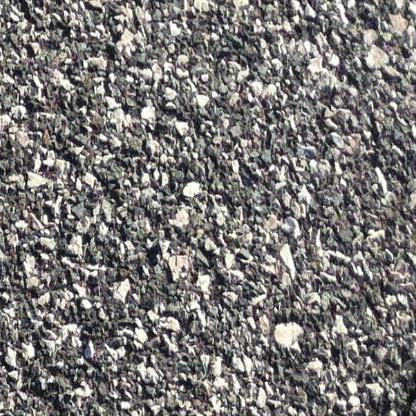Cracks: (373, 373, 416, 416)
